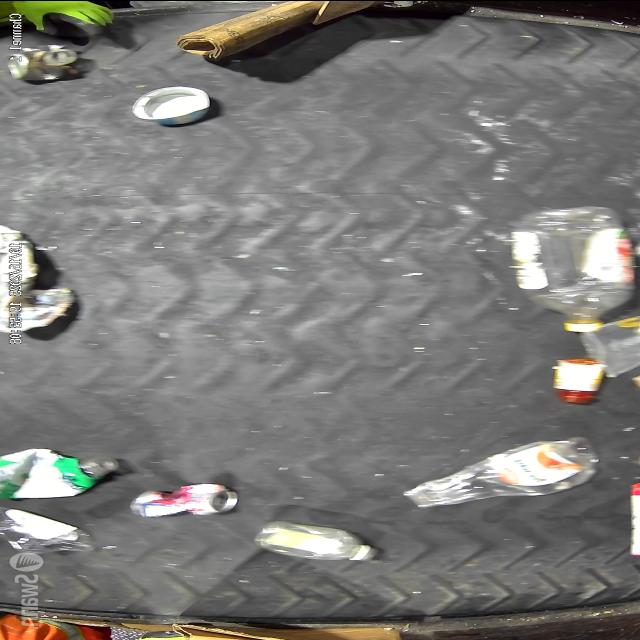can: (129, 482, 251, 522), (124, 84, 224, 128), (1, 40, 88, 84)
non_white_jug: (0, 448, 125, 500)
plastic_bottle: (504, 202, 636, 330), (394, 432, 602, 510), (245, 520, 386, 568)
